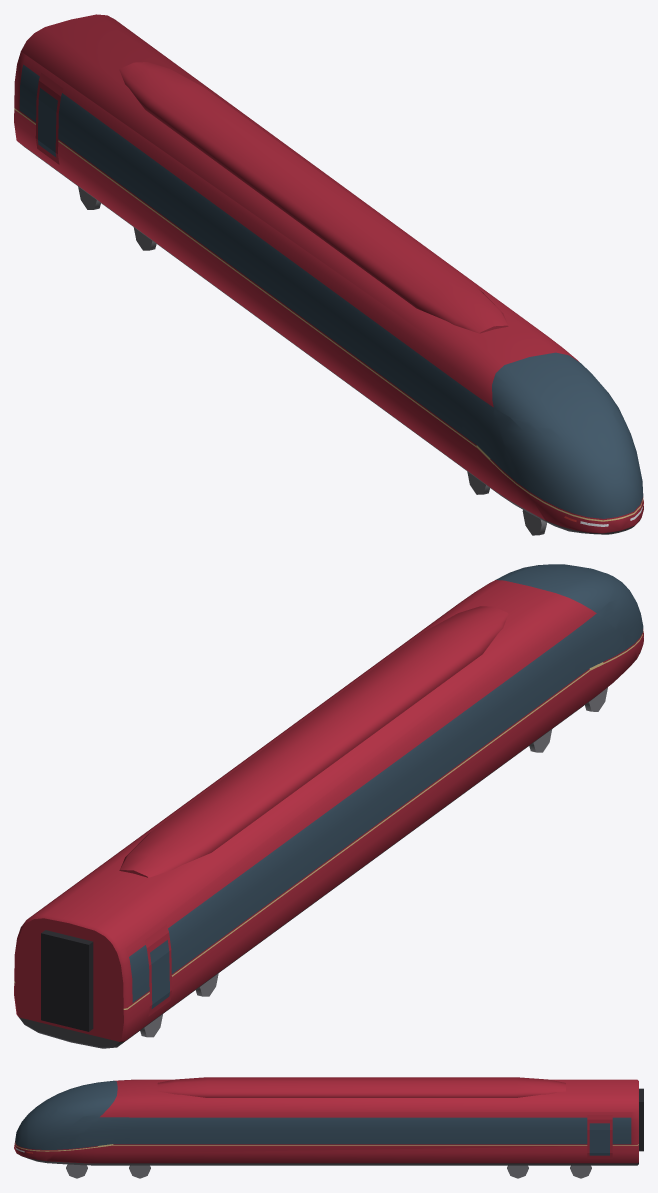
The picture shows the model from 3 angles, top to bottom: view 1: azimuth 30°, elevation 25°; view 2: azimuth 150°, elevation 25°; view 3: azimuth 270°, elevation 25°; orthographic projection. The views are drawn at different scales.
Visible parts, largest first — view 1: 377; view 2: 377; view 3: 377.
Part boxes in pixels (box(x1,y1,x2,y2)): 377: box(14, 14, 643, 535); 377: box(14, 564, 643, 1048); 377: box(14, 1077, 643, 1178).
Size of the model in its own units: 2.97 by 3.86 by 25.
